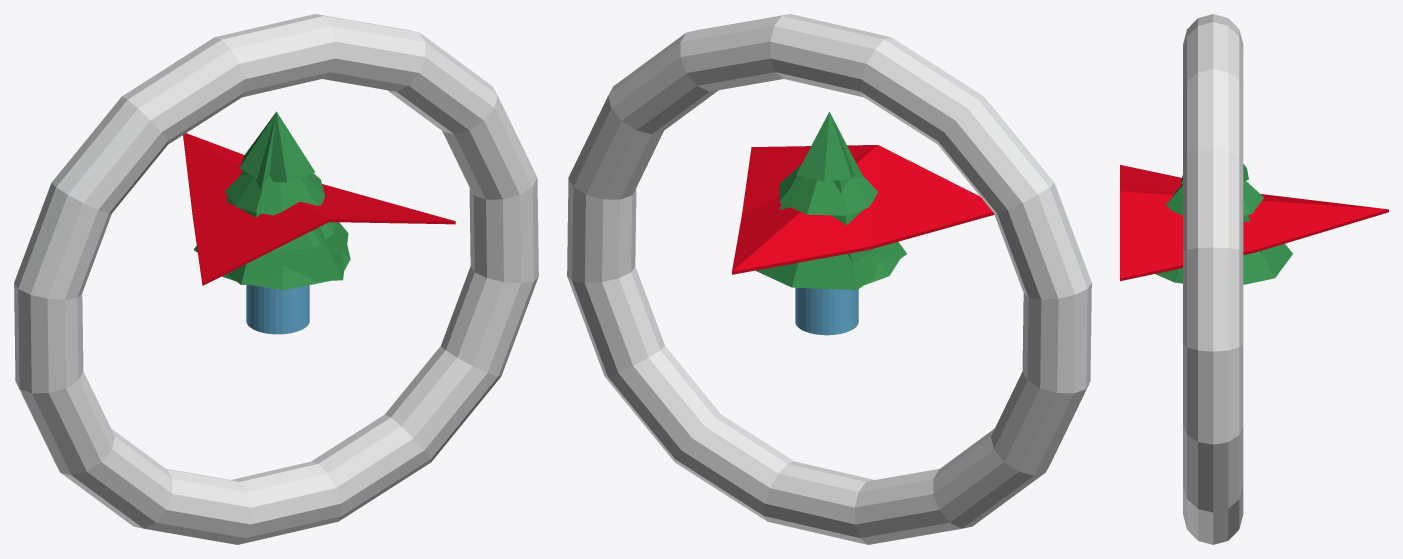
The picture shows the model from 3 angles, left to right: view 1: azimuth 30°, elevation 25°; view 2: azimuth 150°, elevation 25°; view 3: azimuth 270°, elevation 25°; orthographic projection. The views are drawn at different scales.
Parts seen in each view (by area): view 1: Ring, Player, Tree, SimpleTree, SimplerTree; view 2: Ring, Player, Tree, SimpleTree, SimplerTree; view 3: Ring, Player, SimpleTree, Tree.
Boxes of the visible parts, x1,y1,x2,y2 form: Ring: (14,14,538,544); Player: (183,133,455,334); Tree: (222,111,350,290); SimpleTree: (193,222,348,284); SimplerTree: (225,114,350,258); Ring: (567,14,1091,544); Player: (732,145,994,335); Tree: (779,111,899,285); SimpleTree: (756,241,906,289); SimplerTree: (779,115,875,264); Ring: (1183,14,1243,544); Player: (1120,165,1388,281); SimpleTree: (1158,243,1292,284); Tree: (1155,164,1264,283).
Bounding box in the file's own units: 1.86 × 1.74 × 0.9125.
